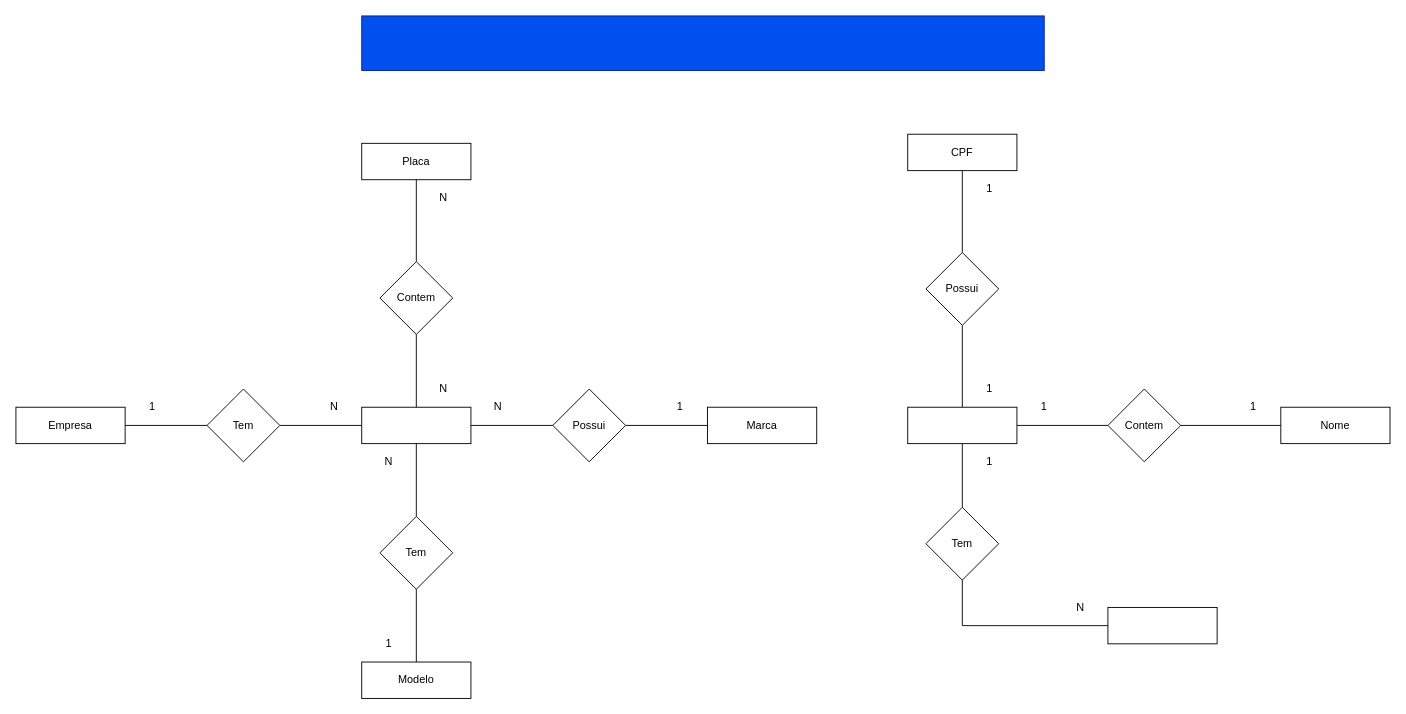
Some shapes in this 1406 by 714 pixel diagram are drawn without their labels. The shapes that lost their labels are listed below. From the top down, each one's centre as x and y in pixels, then its label:
At pixel 702 43: "VEICULO".
At pixel 416 425: "Veiculos".
At pixel 962 425: "Cliente".
At pixel 1162 625: "Tipo Veiculo".
